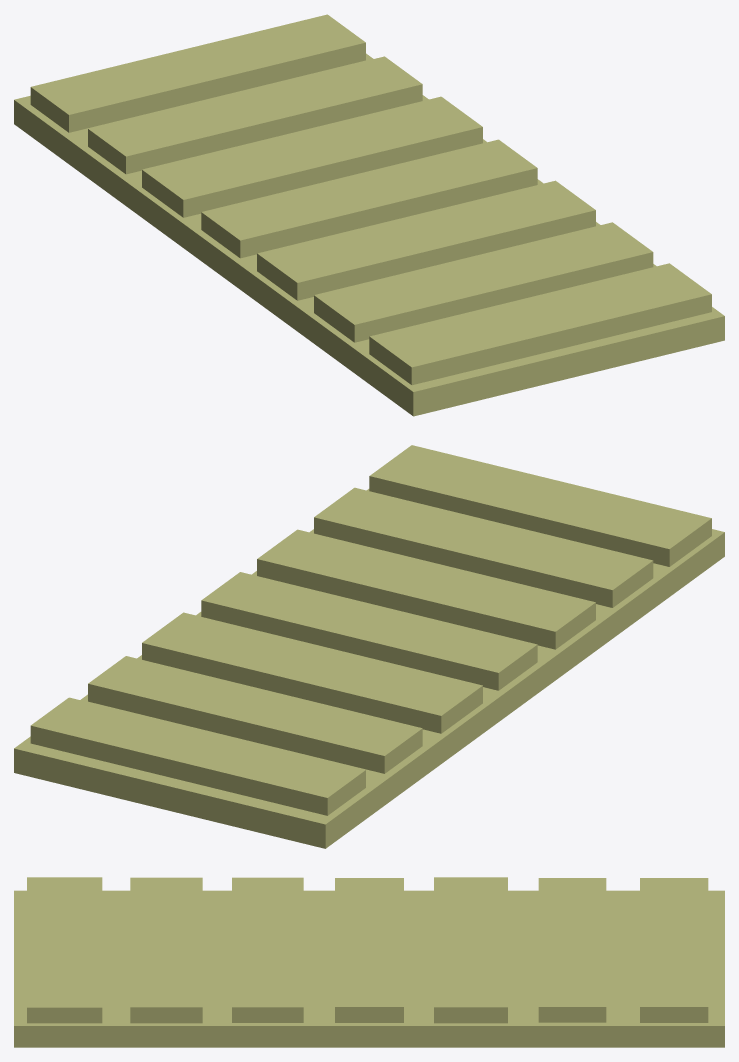
File: whitechoco.fbx
The picture shows the model from 3 angles, top to bottom: view 1: azimuth 30°, elevation 25°; view 2: azimuth 150°, elevation 25°; view 3: azimuth 270°, elevation 25°; orthographic projection. The views are drawn at different scales.
Visible parts, largest first — view 1: Cube; view 2: Cube; view 3: Cube.
Boxes of the visible parts, left/top/right/bottom form: Cube: left=14, top=14, right=724, bottom=416; Cube: left=14, top=445, right=724, bottom=848; Cube: left=14, top=877, right=724, bottom=1047.
Size of the model in its own units: 200 by 25.95 by 444.
